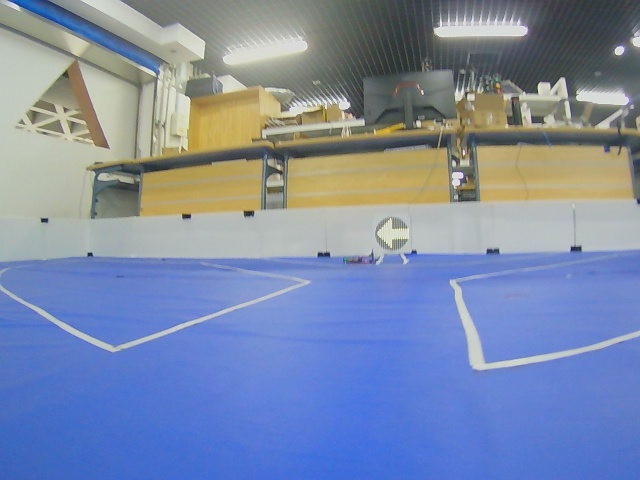left_yellow: (375, 217, 410, 251)
